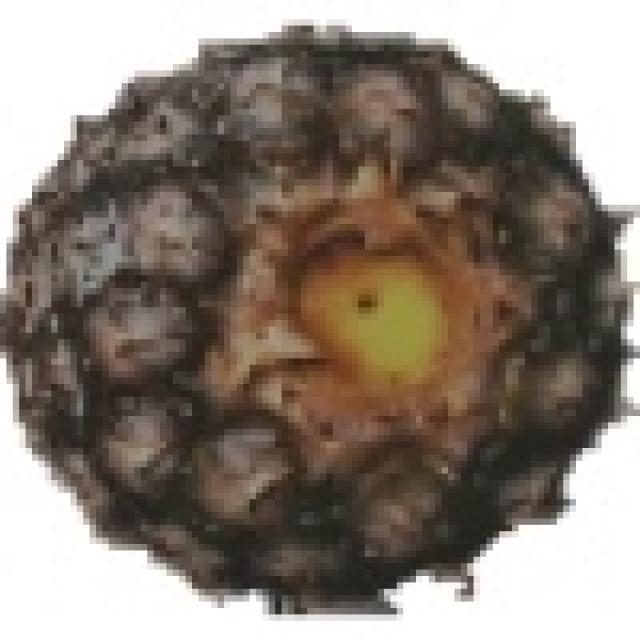pineapple: (6, 19, 602, 595)
